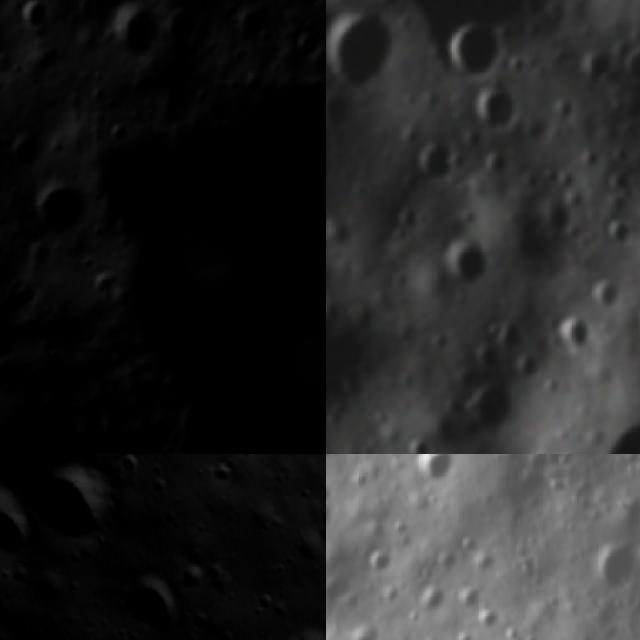crater: (15, 454, 142, 560), (99, 552, 199, 640), (0, 459, 61, 581), (326, 0, 397, 97), (451, 371, 527, 440), (438, 14, 506, 86), (94, 0, 171, 63), (22, 176, 93, 243), (433, 234, 495, 296), (535, 311, 599, 369), (468, 76, 522, 137), (406, 130, 460, 190), (583, 537, 640, 591), (166, 551, 218, 603), (573, 41, 618, 92), (580, 273, 626, 321), (200, 454, 249, 497), (7, 0, 61, 39), (358, 536, 400, 582), (406, 454, 460, 485), (600, 210, 638, 252), (304, 483, 326, 546), (280, 613, 326, 640), (114, 454, 152, 482), (618, 38, 640, 86), (146, 467, 178, 500), (393, 430, 434, 454), (0, 454, 31, 483), (456, 584, 484, 614), (476, 609, 504, 636)
